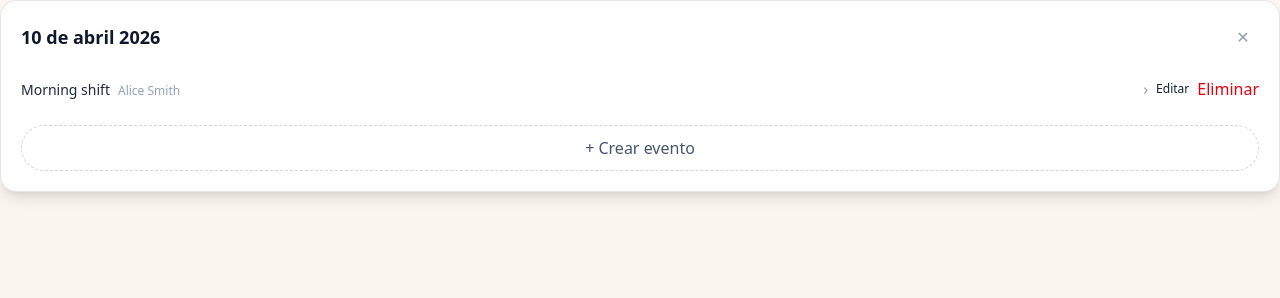
Scenario: DayDetailPanel › expands event detail when toggle button is clicked
Expected: the text "Recurrente" is not shown
Step 1. Click the button named "ver detalle" → x=1146, y=89, box [1143,77,1148,101]
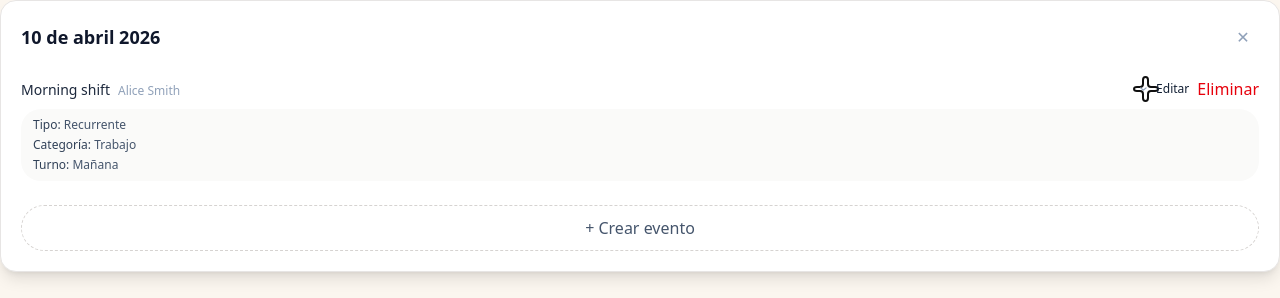
Result: the text "Tipo: Recurrente" is shown at [33,116,126,133]
Result: the text "Categoría: Trabajo" is shown at [33,136,136,153]
Result: the text "Turno: Mañana" is shown at [33,156,118,173]
